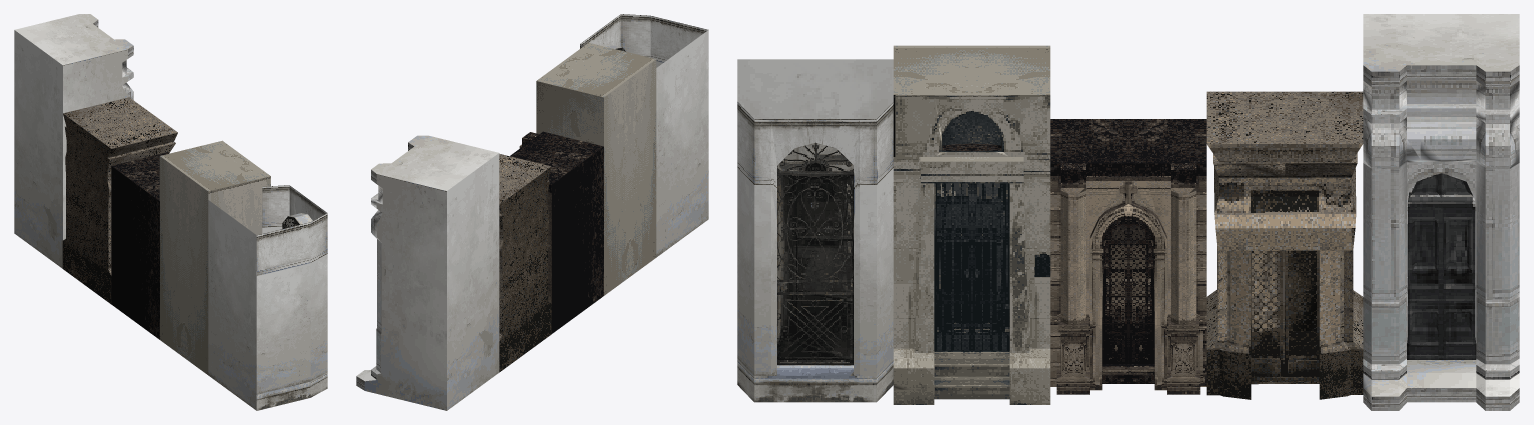
The model's file is bovedas.glb.
3 renders of one model, left to right at view 1: azimuth 30°, elevation 25°; view 2: azimuth 150°, elevation 25°; view 3: azimuth 270°, elevation 25°, orthographic. The views are drawn at different scales.
Visible parts, largest first — view 1: bov5, bov1, bov4, bov2, bov3; view 2: bov1, bov4, bov5, bov3, bov2; view 3: bov1, bov4, bov5, bov2, bov3.
Boxes of the visible parts, left/top/right/bottom form: bov5: left=208, top=185, right=327, bottom=410; bov1: left=14, top=14, right=133, bottom=268; bov4: left=159, top=140, right=270, bottom=374; bov2: left=62, top=97, right=177, bottom=303; bov3: left=111, top=152, right=169, bottom=339; bov1: left=356, top=135, right=499, bottom=410; bov4: left=536, top=42, right=656, bottom=295; bov5: left=580, top=14, right=708, bottom=257; bov3: left=510, top=131, right=603, bottom=333; bov2: left=499, top=153, right=551, bottom=372; bov1: left=1363, top=14, right=1519, bottom=410; bov4: left=893, top=45, right=1050, bottom=404; bov5: left=737, top=59, right=893, bottom=402; bov2: left=1206, top=91, right=1363, bottom=399; bov3: left=1050, top=119, right=1206, bottom=394.
Size of what is drawn, in the model's own units: 2.07 by 4.64 by 10.
Materials: 13 (13 with a texture image).
